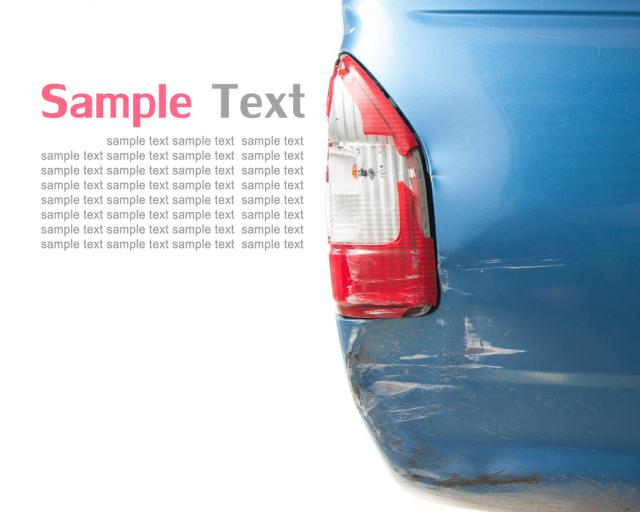dent: (349, 287, 607, 485), (401, 102, 499, 242)
lamp broken: (325, 54, 445, 322)
scratch: (439, 253, 578, 283)
